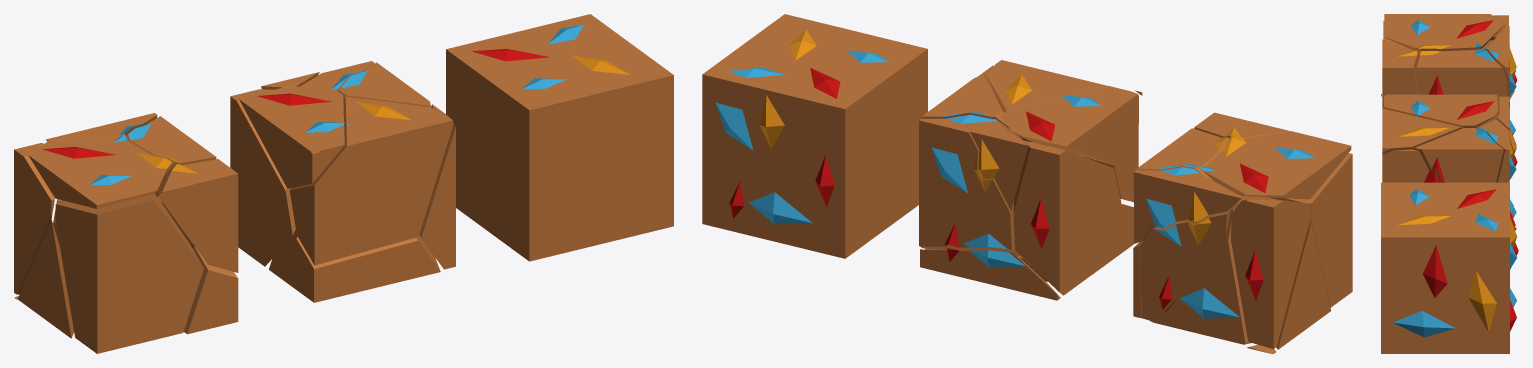
The model's file is CrystalBlock.fbx.
3 renders of one model, left to right at view 1: azimuth 30°, elevation 25°; view 2: azimuth 150°, elevation 25°; view 3: azimuth 270°, elevation 25°, orthographic. The views are drawn at different scales.
Visible parts, largest first — view 1: CrystallCube_0, Cube_cell.014, CrystallCube_1; view 2: CrystallCube_0, Cube_cell.014, CrystallCube_1; view 3: CrystallCube_0, CrystallCube_1, Cube_cell.014.
Boxes of the visible parts, <box> form: CrystallCube_0: <box>446,14,673,261</box>; Cube_cell.014: <box>14,113,238,353</box>; CrystallCube_1: <box>230,61,455,302</box>; CrystallCube_0: <box>702,14,927,258</box>; Cube_cell.014: <box>1133,112,1352,353</box>; CrystallCube_1: <box>919,60,1142,300</box>; CrystallCube_0: <box>1381,182,1518,353</box>; CrystallCube_1: <box>1381,94,1517,230</box>; Cube_cell.014: <box>1382,14,1517,145</box>.
Bounding box in the file's own units: 812 × 237 × 214.
